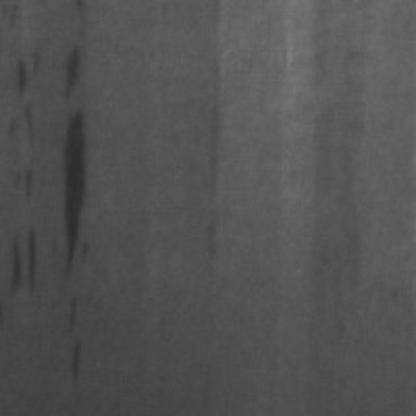inclusion: (299, 13, 360, 376), (187, 4, 233, 283), (41, 96, 92, 285), (54, 283, 94, 393), (2, 102, 38, 220), (4, 216, 42, 302), (4, 39, 40, 106), (57, 37, 86, 100)
